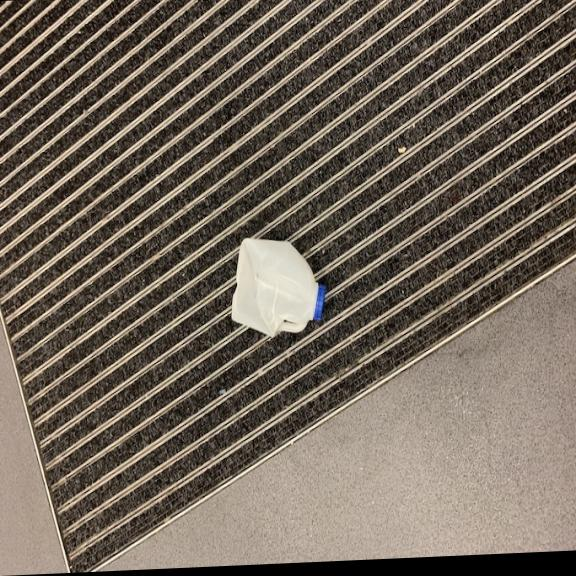Plastik: (231, 234, 328, 339)
